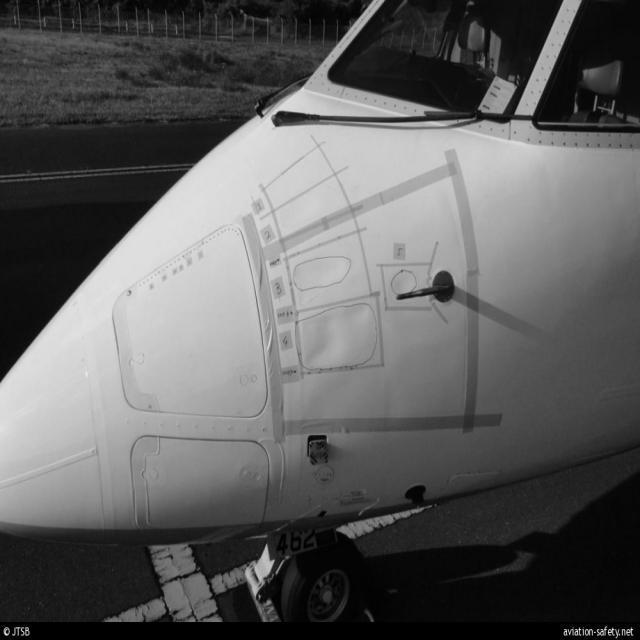dent: (302, 305, 373, 366), (294, 256, 351, 291), (305, 332, 338, 368), (390, 269, 417, 297)
